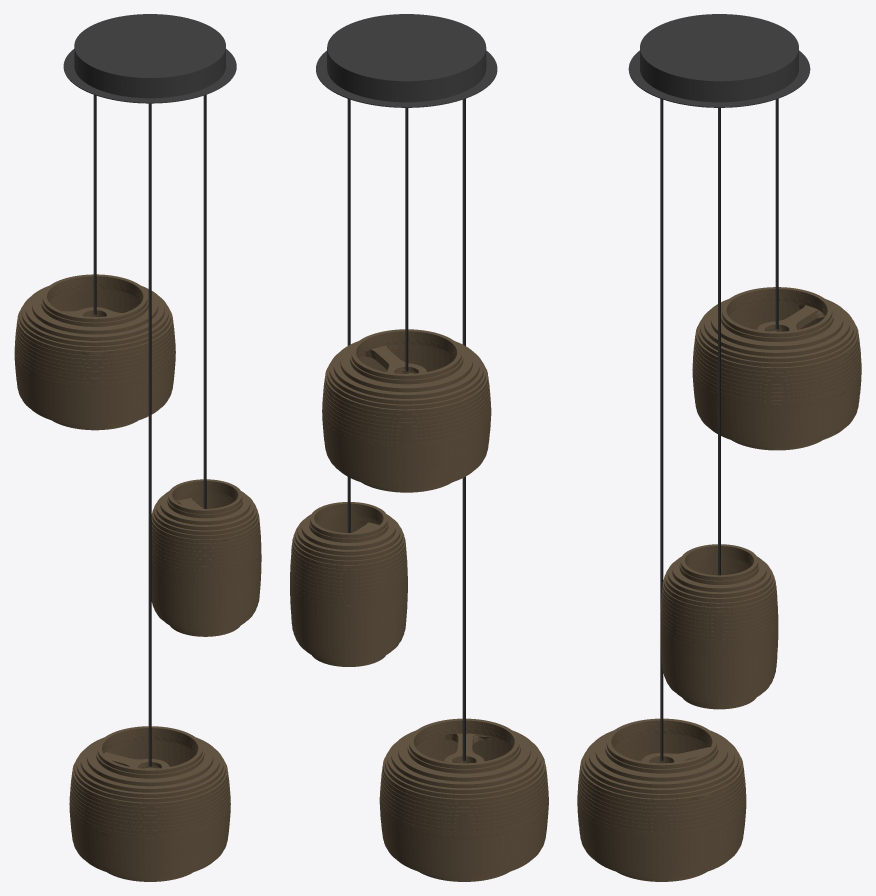
The picture shows the model from 3 angles, left to right: view 1: azimuth 30°, elevation 25°; view 2: azimuth 150°, elevation 25°; view 3: azimuth 270°, elevation 25°; orthographic projection. The views are drawn at different scales.
Size of the model in its own units: 0.4026 by 1.5 by 0.4703.
